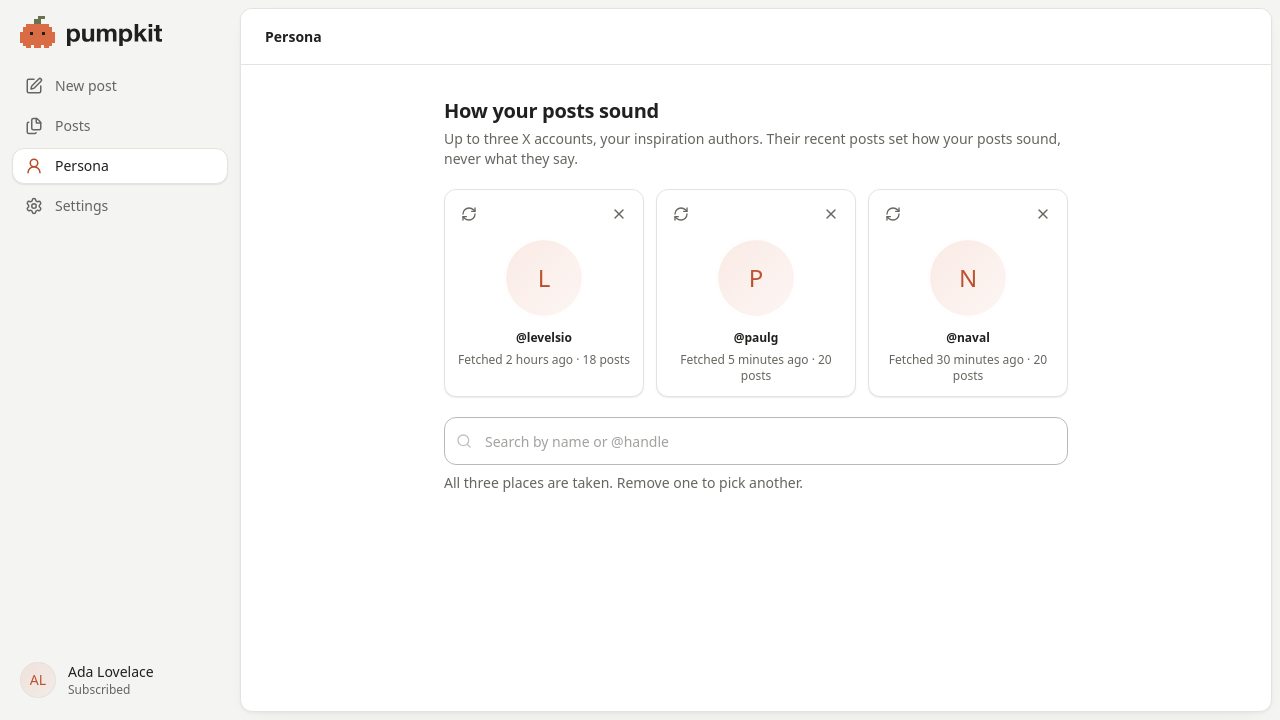
Test case: Persona › the slots › disables the search once all three places are taken, until one is removed
This screenshot has width=1280, height=720.
Expected: the dropdown named "Find an author" is disabled, x1=444 y1=417 x2=1068 y2=465
Expected: the list named "3 of 3 places taken" is shown, x1=444 y1=189 x2=1068 y2=397
Click the button named "Remove @naval": (1043, 214) x1=1023 y1=194 x2=1063 y2=234
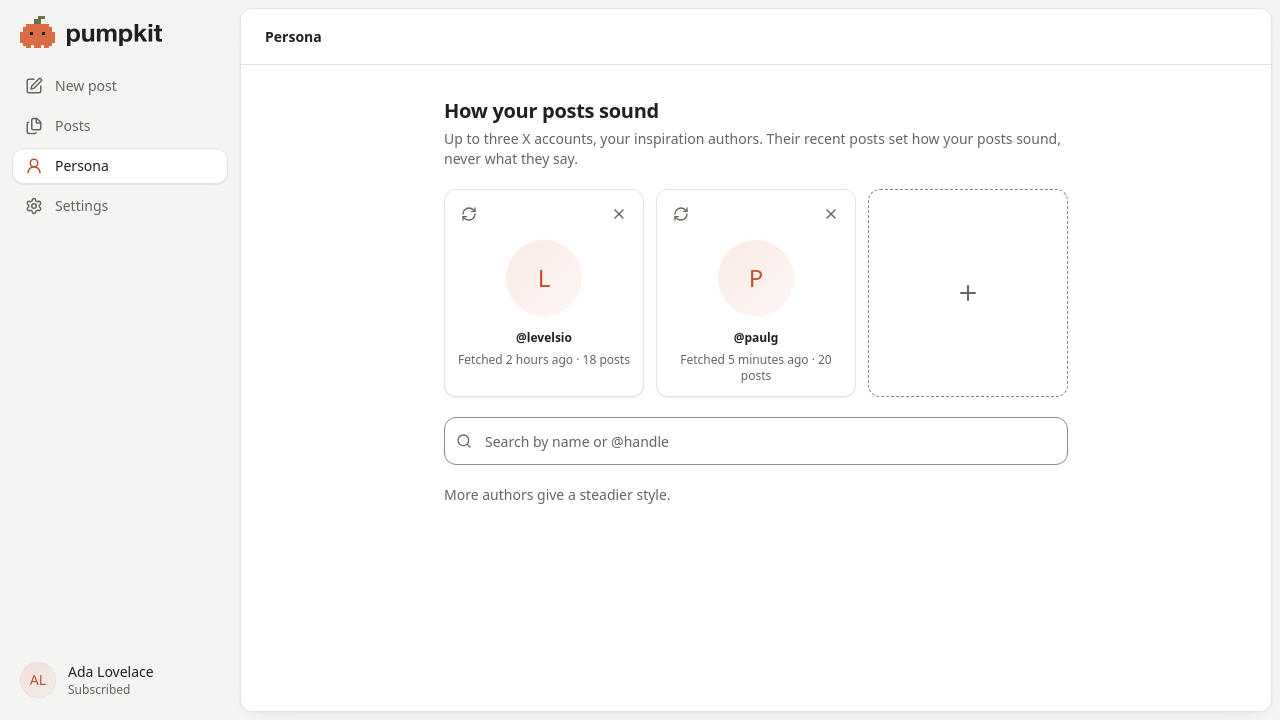
Result: the dropdown named "Find an author" is enabled at x1=444 y1=417 x2=1068 y2=465
